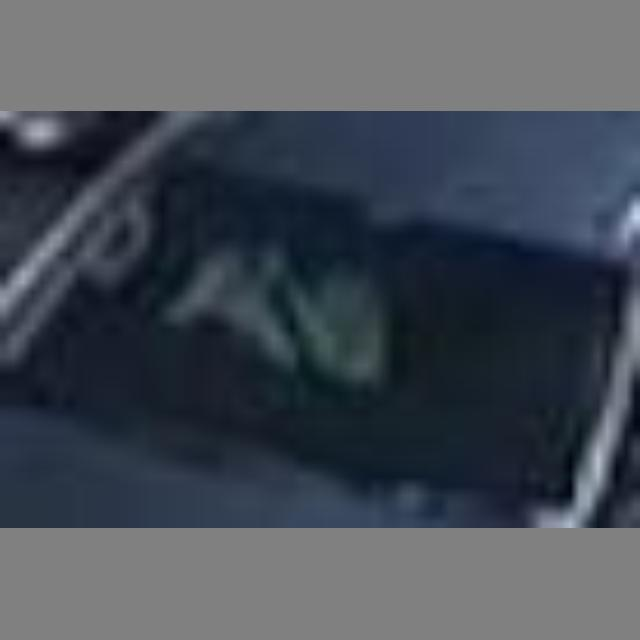pakai: (158, 194, 408, 436)
